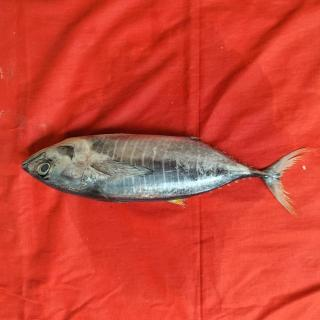Ikan: (18, 123, 319, 230)
